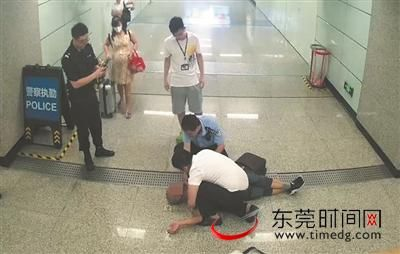fall: (156, 158, 313, 228)
